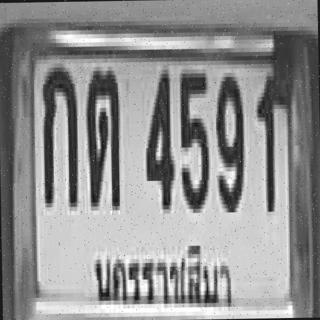A01: (41, 63, 77, 203)
A21: (85, 66, 120, 206)
N01: (255, 68, 277, 208)
N04: (143, 66, 173, 206)
N05: (178, 69, 208, 209)
N09: (213, 72, 243, 208)
P30: (88, 233, 238, 320)
